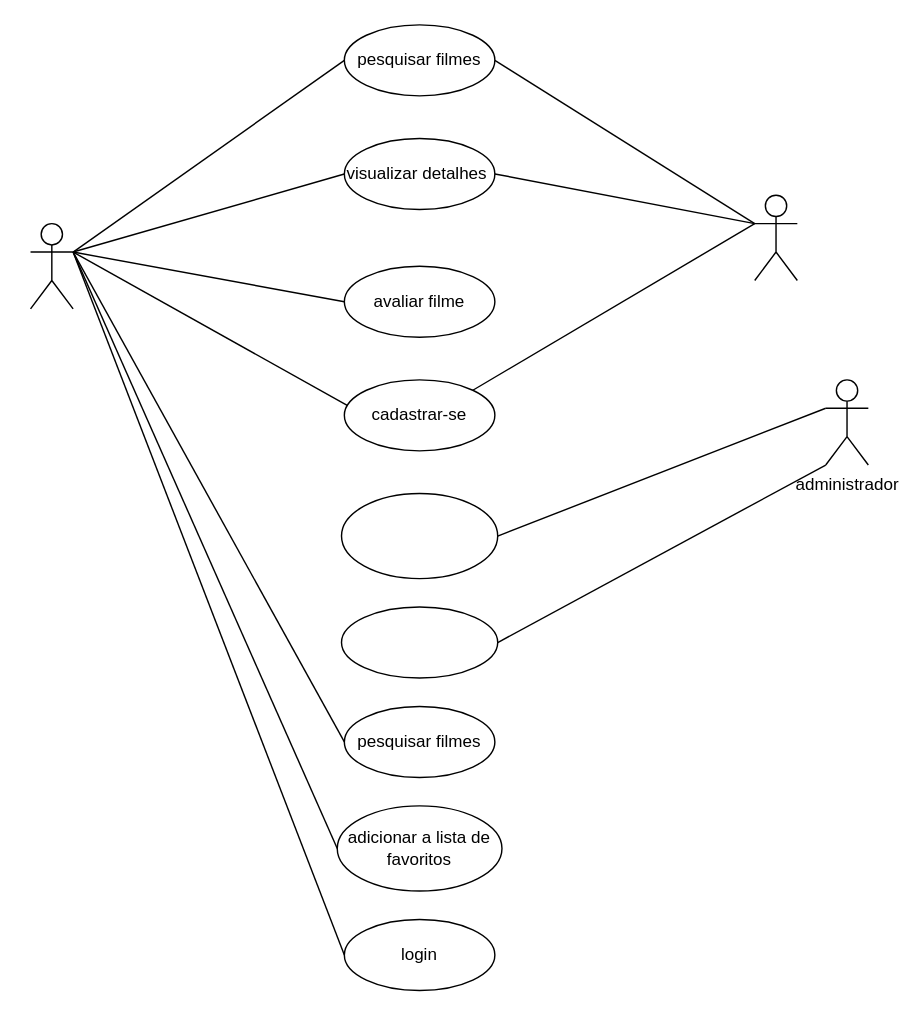
Some shapes in this 923 by 1015 pixel diagram are drawn without their labels. Each missing label, with the box of its shape:
gerenciar filmes: (340, 606, 498, 678)
gerenciar usuarios: (340, 492, 498, 579)
usuario: (29, 222, 73, 309)
usuario(nao registrado): (753, 194, 797, 280)
